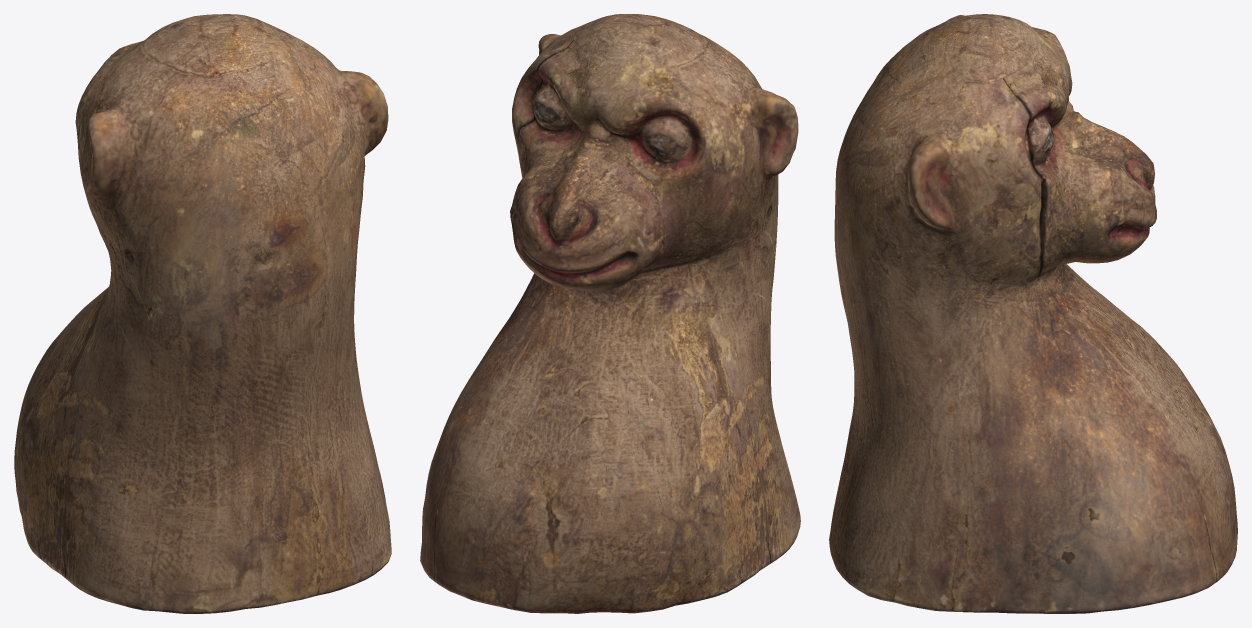
Rendered from MTY004601.glb.
3 views of the same model, side by side, from view 1: azimuth 30°, elevation 25°; view 2: azimuth 150°, elevation 25°; view 3: azimuth 270°, elevation 25° (orthographic). The views are drawn at different scales.
Parts seen in each view (by area): view 1: MTY004601; view 2: MTY004601; view 3: MTY004601.
Part boxes in pixels (<box>): MTY004601: <box>14,14,391,613</box>; MTY004601: <box>420,14,800,613</box>; MTY004601: <box>829,14,1237,613</box>.
Bounding box in the file's own units: 34.32 × 57.89 × 41.14.
Materials: 1 (1 with a texture image).
